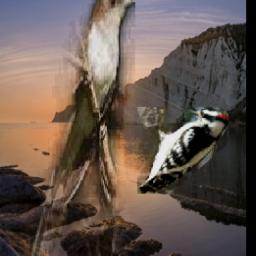Cuckoo: (29, 0, 135, 256)
Woodpecker: (138, 107, 230, 194)
